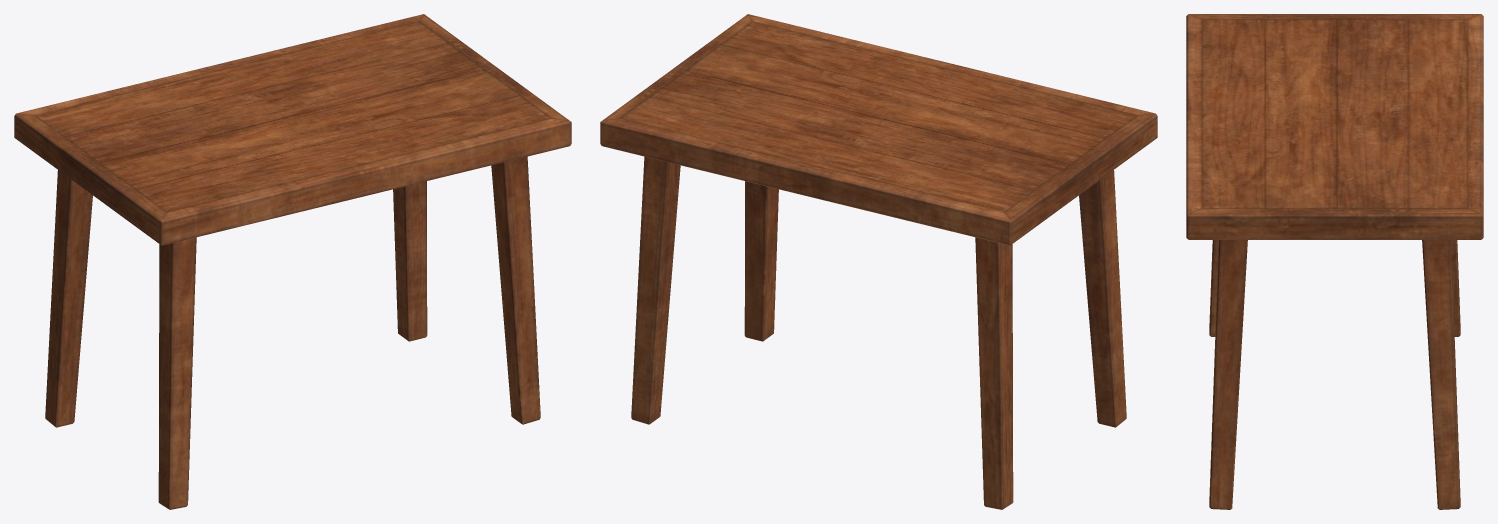
Rendered from wooden_table_02.glb.
3 views of the same model, side by side, from view 1: azimuth 30°, elevation 25°; view 2: azimuth 150°, elevation 25°; view 3: azimuth 270°, elevation 25° (orthographic).
Bounding box in the file's own units: 1.13 × 0.7996 × 0.706.
1 material, 1 textured.
